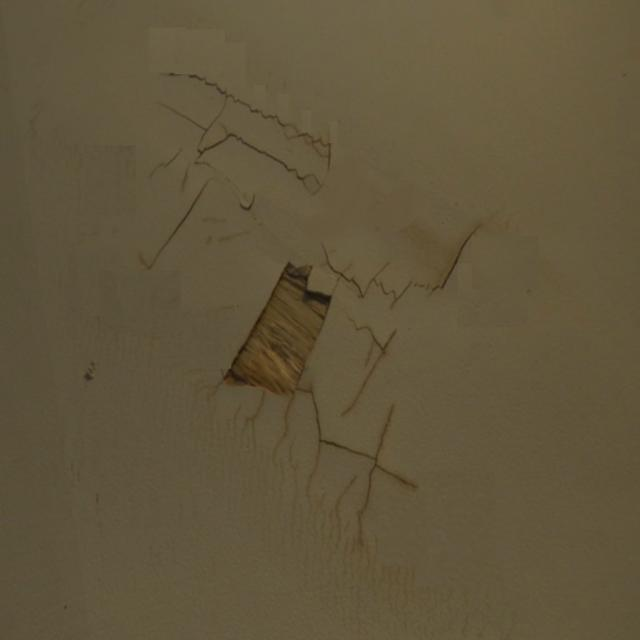crack: (169, 72, 335, 190), (319, 406, 427, 508), (320, 231, 474, 300), (342, 336, 399, 416), (152, 182, 210, 260)
surface_peeling: (218, 258, 338, 394)
